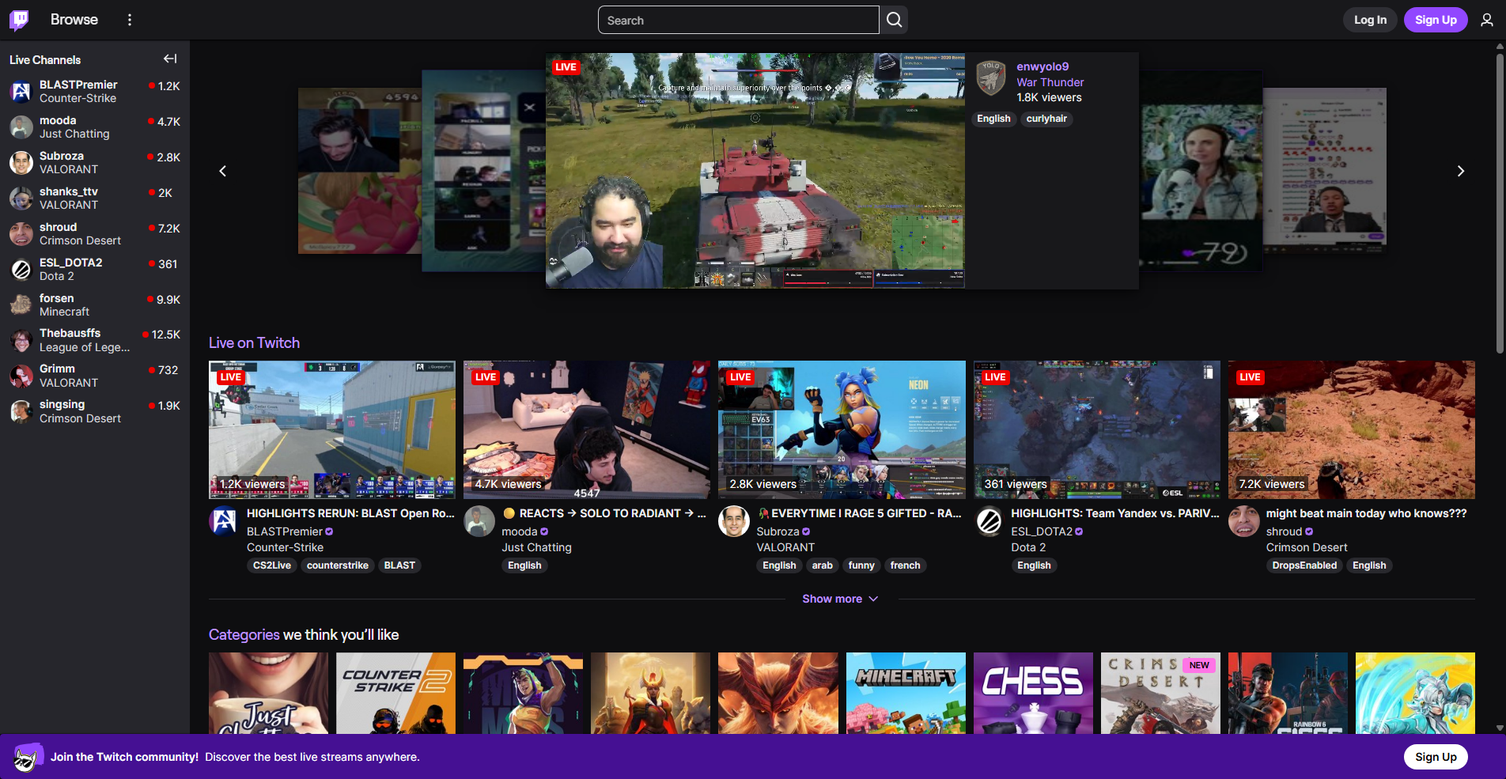button: (247, 506, 456, 521), (502, 506, 711, 521), (756, 506, 965, 521), (1011, 506, 1220, 521), (1266, 506, 1475, 521), (791, 586, 893, 611), (1404, 744, 1468, 770), (1404, 7, 1468, 32), (1343, 7, 1398, 32), (880, 6, 908, 34), (209, 157, 237, 185), (1447, 157, 1475, 185), (1474, 7, 1500, 32), (157, 46, 183, 71), (117, 7, 142, 32), (552, 258, 577, 283), (577, 258, 602, 283), (908, 258, 933, 283), (933, 258, 958, 283), (885, 10, 904, 29)
input: (598, 6, 880, 34), (602, 264, 689, 277)
label: (602, 270, 602, 271)
link: (209, 360, 456, 499), (464, 360, 711, 499), (973, 360, 1220, 499), (1228, 360, 1475, 499), (719, 360, 965, 499), (336, 652, 456, 779), (591, 652, 711, 779), (973, 652, 1093, 779), (1228, 652, 1348, 779), (209, 652, 328, 779), (464, 652, 583, 779), (719, 652, 838, 779), (846, 652, 965, 779), (1101, 652, 1220, 779), (1356, 652, 1475, 779), (247, 506, 456, 539), (502, 506, 711, 539), (756, 506, 965, 539), (1011, 506, 1220, 539), (1266, 506, 1475, 539), (3, 74, 187, 110), (3, 145, 187, 181), (3, 216, 187, 252), (3, 287, 187, 323), (3, 323, 187, 359), (3, 394, 187, 430), (3, 110, 187, 145), (3, 181, 187, 216), (3, 252, 187, 287), (3, 359, 187, 394), (51, 0, 98, 40), (1017, 74, 1128, 90), (209, 334, 300, 351), (0, 0, 38, 40), (1266, 558, 1343, 574), (209, 626, 280, 643), (300, 558, 375, 574), (1266, 540, 1348, 553), (247, 540, 324, 553), (973, 506, 1005, 537), (1228, 506, 1260, 537), (209, 506, 240, 537), (464, 506, 495, 537), (719, 506, 750, 537), (502, 540, 572, 553), (1020, 111, 1073, 127), (247, 558, 297, 574), (1017, 59, 1069, 74), (756, 540, 815, 553), (756, 558, 803, 574), (1346, 558, 1393, 574), (971, 111, 1017, 127), (502, 558, 548, 574), (1011, 558, 1057, 574), (378, 558, 422, 574), (884, 558, 927, 574), (842, 558, 881, 574), (806, 558, 839, 574), (1011, 540, 1046, 553)
